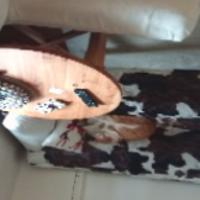asleep: (91, 113, 156, 149)
